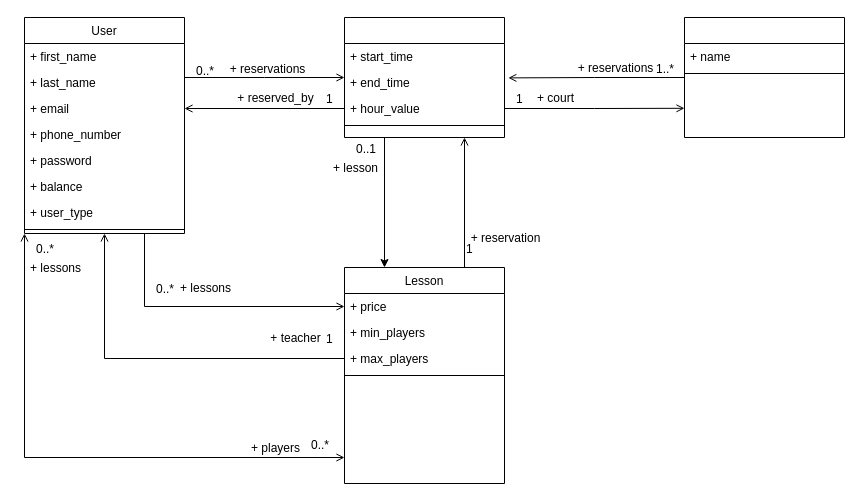
This 862x501 diagram has some shape labels left out. Each missing label, with the box of its shape:
Court: (684, 16, 844, 138)
Reservation: (344, 16, 504, 138)
